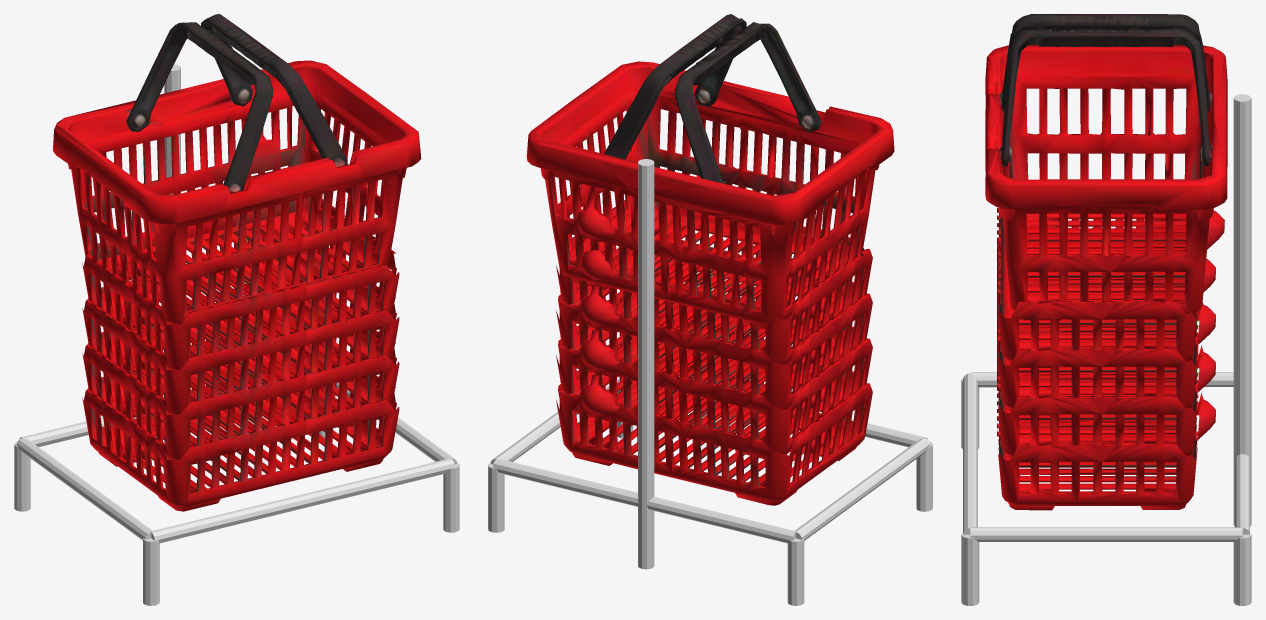
The model's file is basket_stand_a.glb.
The picture shows the model from 3 angles, left to right: view 1: azimuth 30°, elevation 25°; view 2: azimuth 150°, elevation 25°; view 3: azimuth 270°, elevation 25°; orthographic projection. The views are drawn at different scales.
Parts seen in each view (by area): view 1: basket_stand_a; view 2: basket_stand_a; view 3: basket_stand_a.
Boxes of the visible parts, box(x1,y1,x2,y2) form: basket_stand_a: box(14, 14, 459, 605); basket_stand_a: box(488, 14, 932, 605); basket_stand_a: box(961, 14, 1251, 605).
Size of what is drawn, in the model's own units: 0.5127 by 0.7403 by 0.3881.
Materials: 2 (1 with a texture image).
